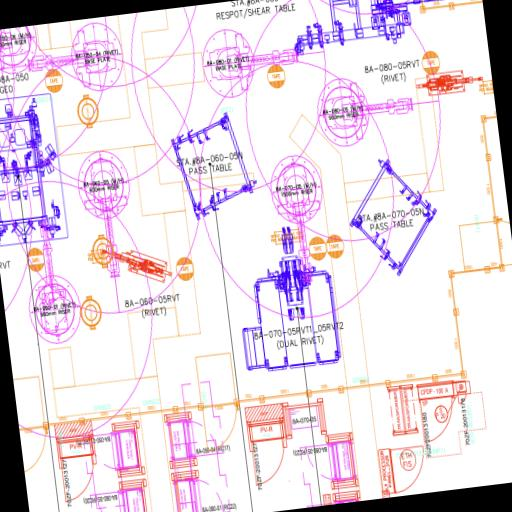robot: (73, 142, 144, 288), (14, 210, 86, 351), (312, 67, 420, 154), (264, 152, 334, 286), (25, 16, 128, 102), (198, 18, 302, 102)
